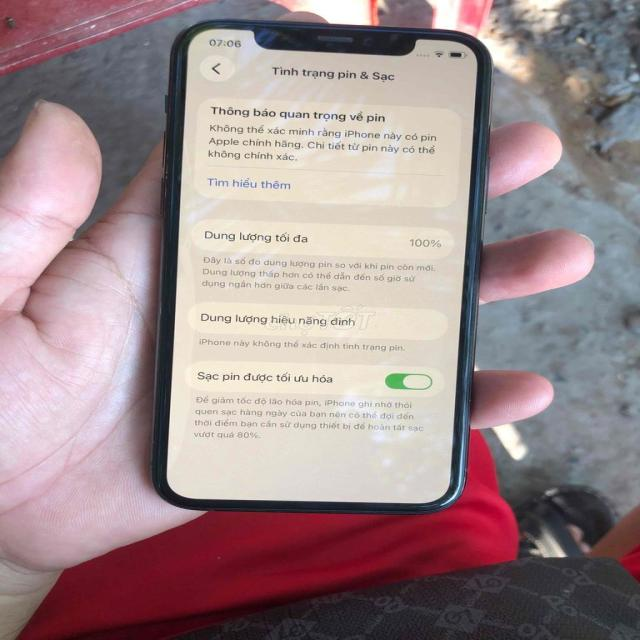gen_11: (152, 20, 492, 514)
